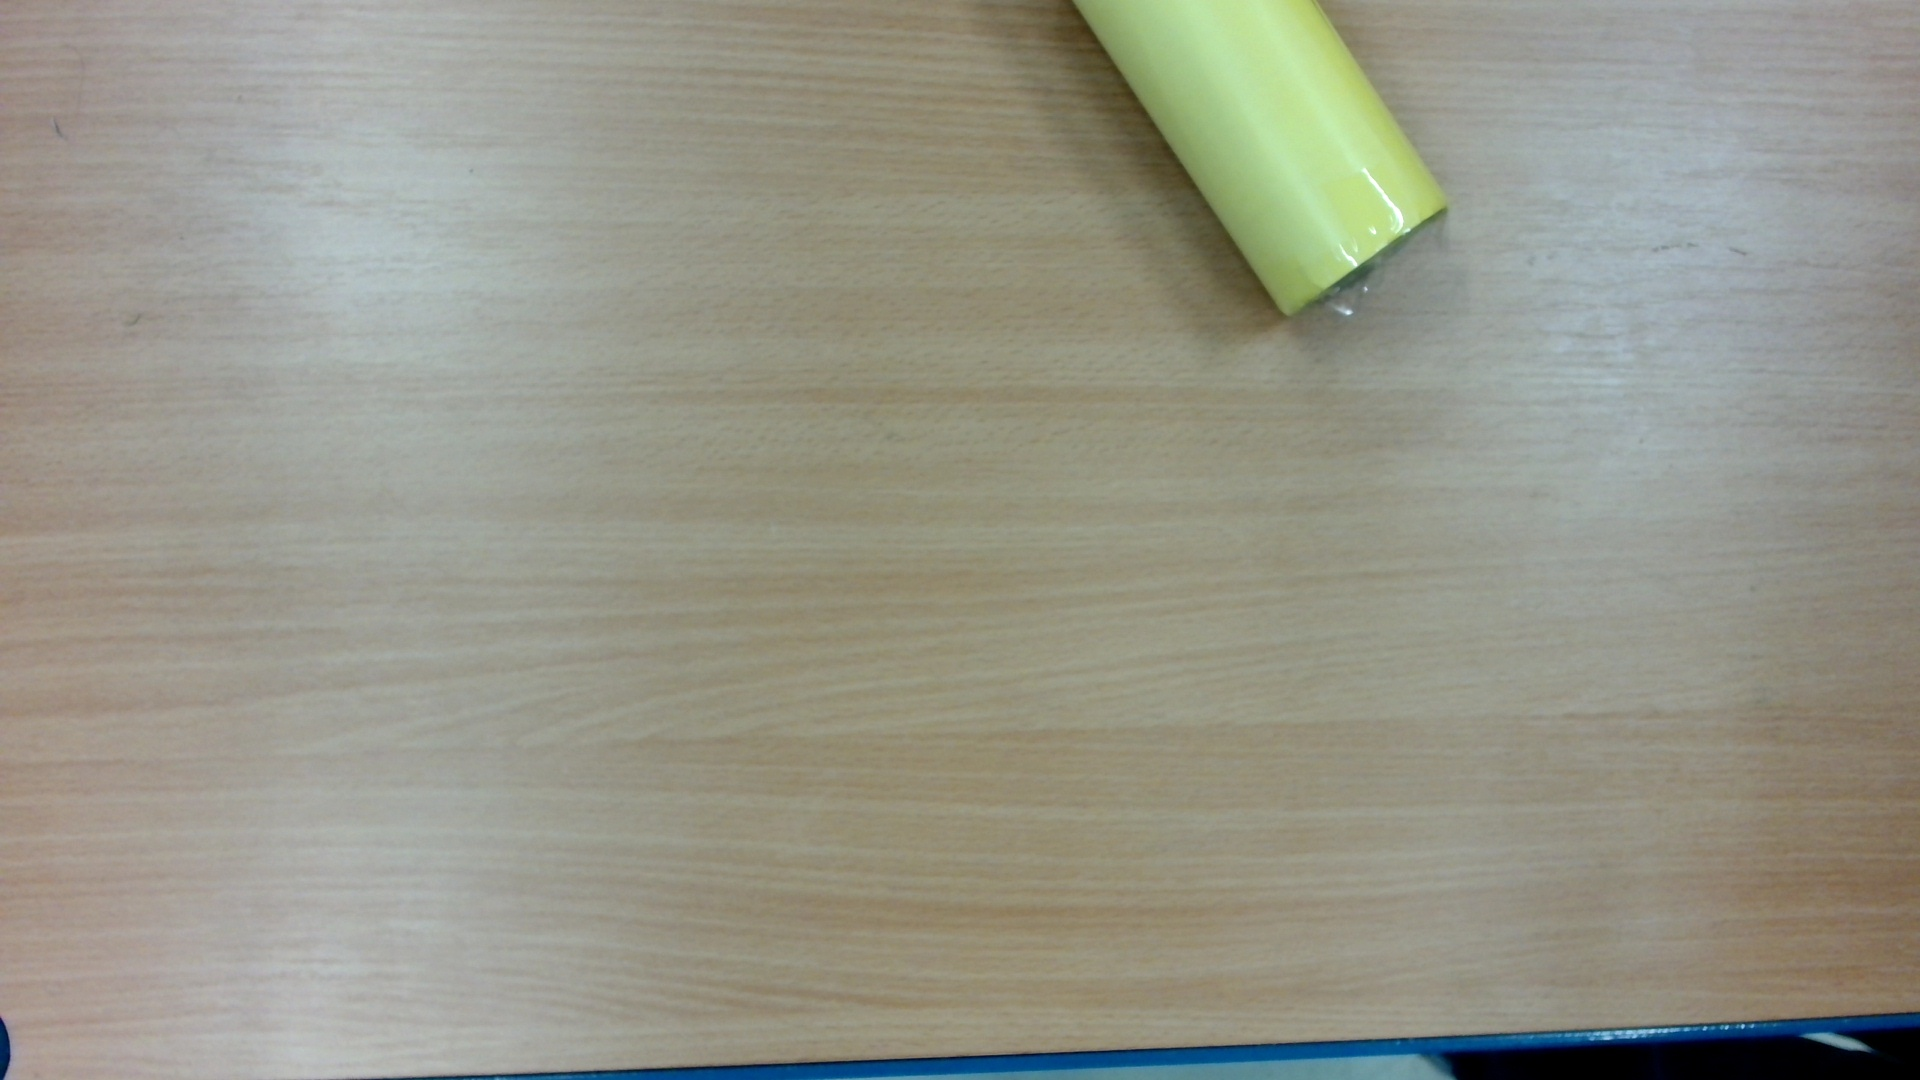Cylinder: (1044, 3, 1474, 348)
